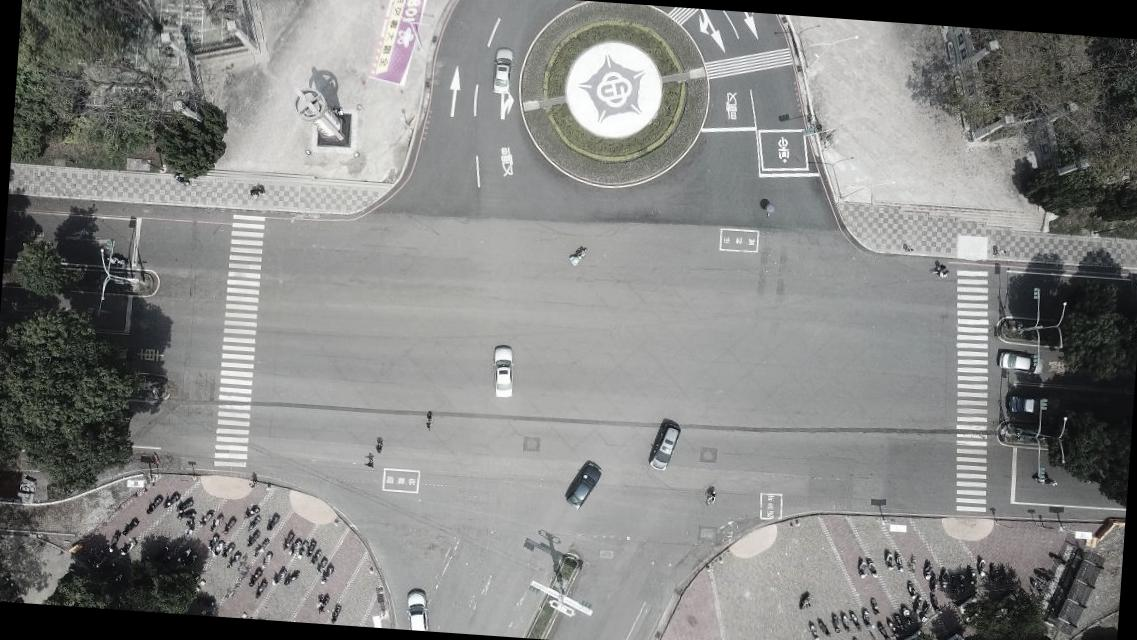vehicle: (564, 462, 600, 512), (649, 424, 680, 470), (490, 344, 516, 398), (1006, 392, 1060, 418), (996, 351, 1044, 375), (404, 589, 430, 630), (492, 48, 512, 94)
